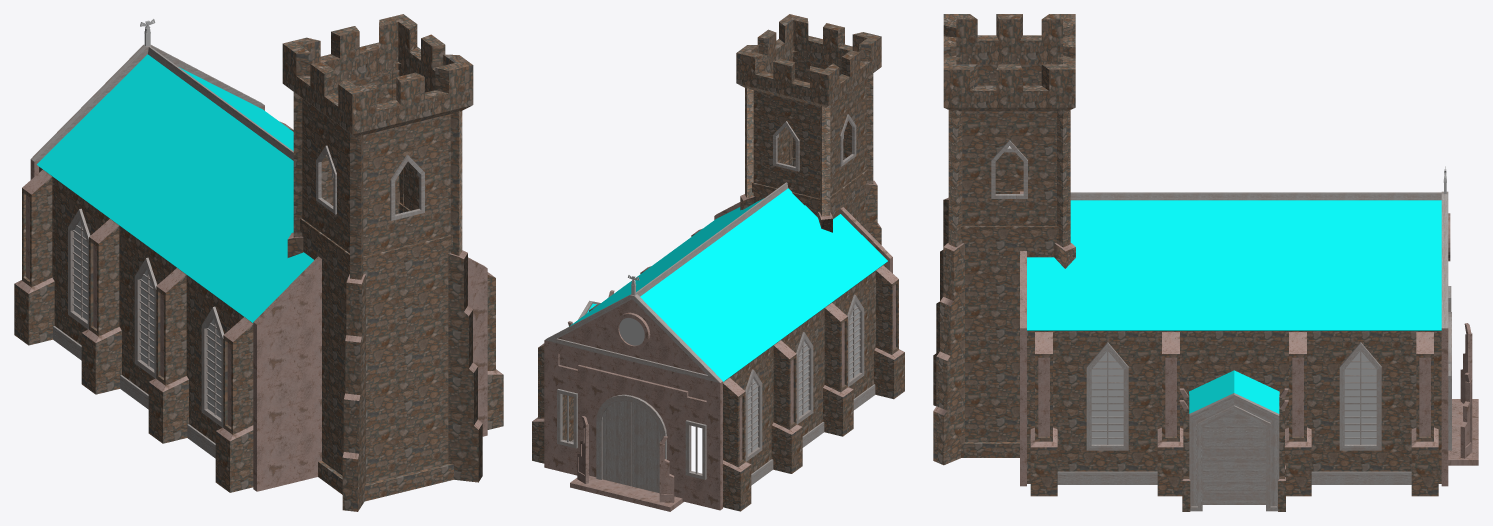
File: Church.fbx
The picture shows the model from 3 angles, left to right: view 1: azimuth 30°, elevation 25°; view 2: azimuth 150°, elevation 25°; view 3: azimuth 270°, elevation 25°; orthographic projection. The views are drawn at different scales.
Parts seen in each view (by area): view 1: polySurface7; view 2: polySurface7; view 3: polySurface7.
Part boxes in pixels (x1=…): polySurface7: x1=14, y1=14, x2=503, y2=511; polySurface7: x1=532, y1=14, x2=904, y2=511; polySurface7: x1=933, y1=14, x2=1478, y2=511.
Bounding box in the file's own units: 1947 × 2512 × 3158.
